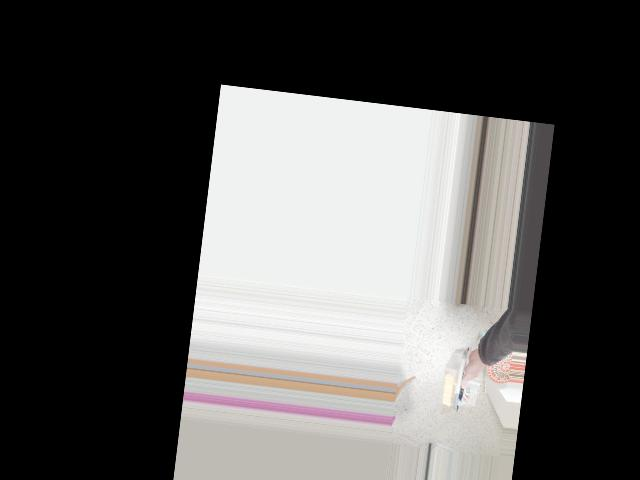cheese: (425, 332, 499, 409)
